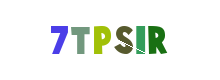7: (19, 0, 99, 80)
I: (101, 0, 181, 80)
P: (61, 0, 141, 80)
R: (102, 0, 182, 80)
S: (69, 0, 149, 80)
T: (58, 0, 138, 80)
